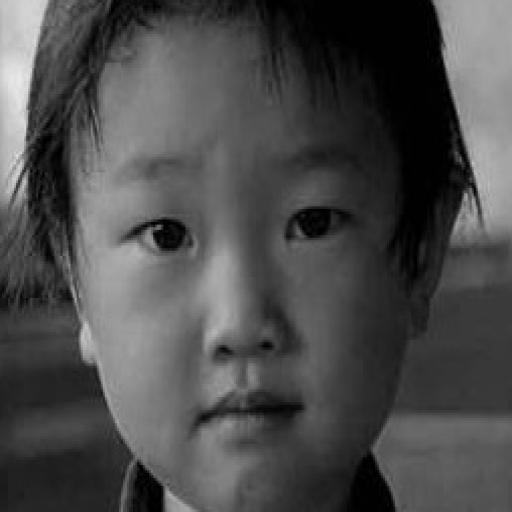Autism: (8, 11, 484, 482)
